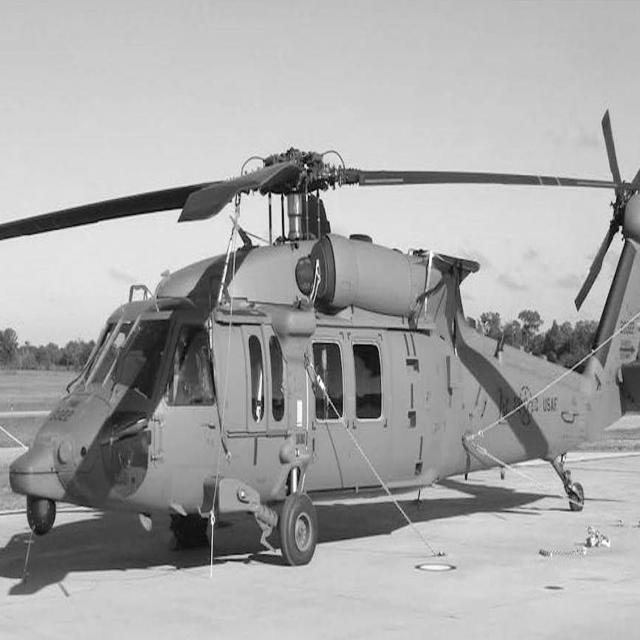helicopter: (8, 96, 634, 579)
